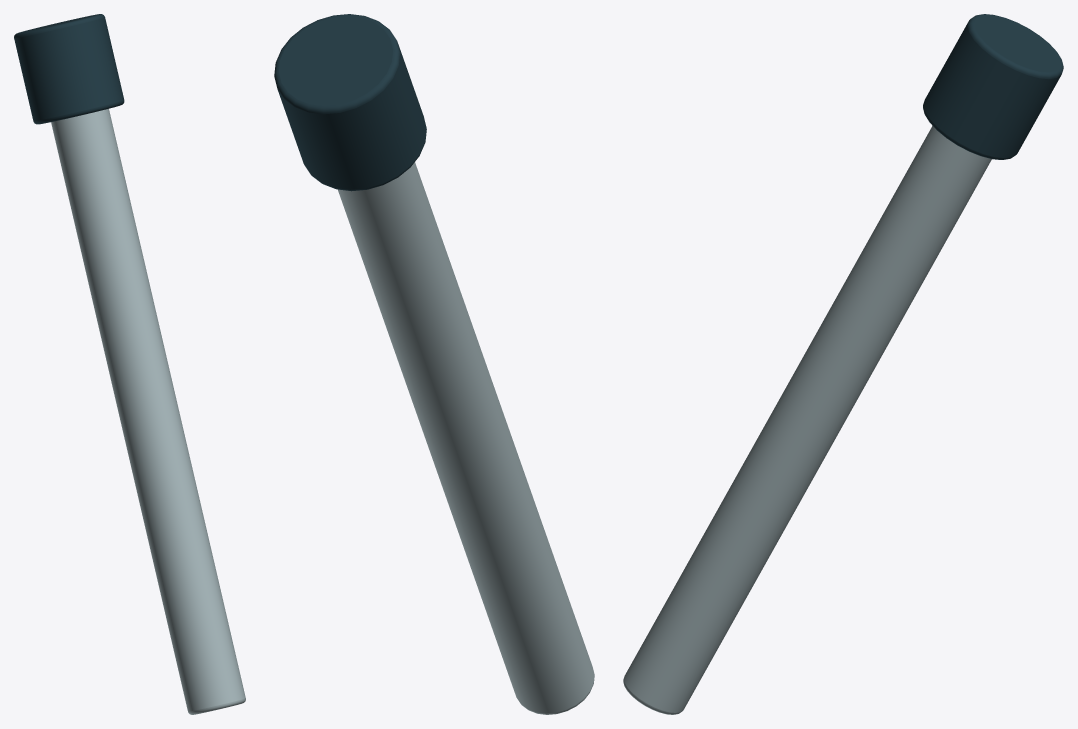
Rendered from SM_Mk2_GuardRod_R.fbx.
3 renders of one model, left to right at view 1: azimuth 30°, elevation 25°; view 2: azimuth 150°, elevation 25°; view 3: azimuth 270°, elevation 25°, orthographic. The views are drawn at different scales.
Parts seen in each view (by area): view 1: SM_Mk2_GuardRod_R; view 2: SM_Mk2_GuardRod_R; view 3: SM_Mk2_GuardRod_R.
Part boxes in pixels (x1,y1,x2,y2): SM_Mk2_GuardRod_R: [14, 14, 245, 714]; SM_Mk2_GuardRod_R: [274, 14, 594, 714]; SM_Mk2_GuardRod_R: [623, 14, 1063, 714].
Bounding box in the file's own units: 4.4 × 18.04 × 31.
